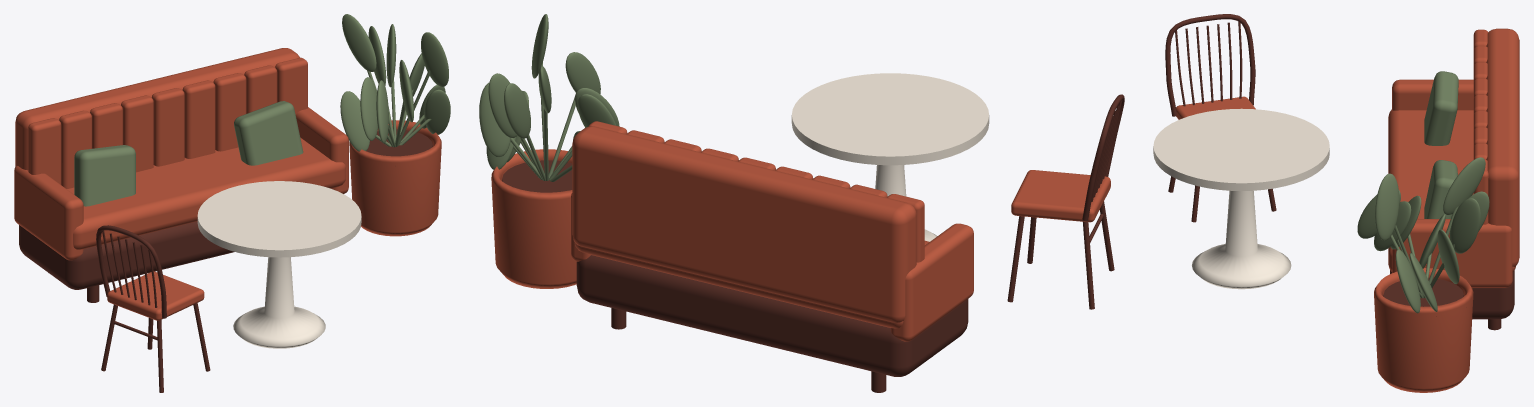
Rendered from terracotta-lounge-kit.glb.
3 views of the same model, side by side, from view 1: azimuth 30°, elevation 25°; view 2: azimuth 150°, elevation 25°; view 3: azimuth 270°, elevation 25° (orthographic). The views are drawn at different scales.
Parts seen in each view (by area): view 1: surface-#B5543A,0,0.7, surface-#6F7F5F,0,0.7, surface-#F0E6D8,0,0.7, surface-#5A2E25,0,0.7; view 2: surface-#B5543A,0,0.7, surface-#5A2E25,0,0.7, surface-#F0E6D8,0,0.7, surface-#6F7F5F,0,0.7; view 3: surface-#B5543A,0,0.7, surface-#F0E6D8,0,0.7, surface-#6F7F5F,0,0.7, surface-#5A2E25,0,0.7.
Part boxes in pixels (x1,y1,x2,y2): surface-#B5543A,0,0.7: (14, 48, 441, 320); surface-#6F7F5F,0,0.7: (74, 14, 450, 206); surface-#F0E6D8,0,0.7: (197, 181, 361, 348); surface-#5A2E25,0,0.7: (19, 129, 432, 392); surface-#B5543A,0,0.7: (491, 121, 1110, 341); surface-#5A2E25,0,0.7: (502, 94, 1124, 392); surface-#F0E6D8,0,0.7: (791, 73, 989, 241); surface-#6F7F5F,0,0.7: (479, 14, 619, 181); surface-#B5543A,0,0.7: (1176, 28, 1519, 392); surface-#F0E6D8,0,0.7: (1153, 108, 1329, 289); surface-#6F7F5F,0,0.7: (1357, 71, 1489, 313); surface-#5A2E25,0,0.7: (1165, 14, 1514, 330).
Bounding box in the file's own units: 2.79 × 1.22 × 1.91.
